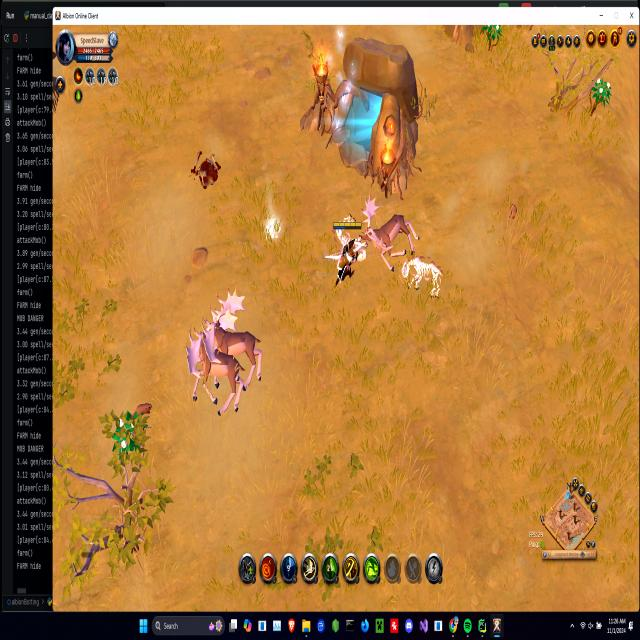hide: (110, 409, 144, 455), (592, 76, 610, 108), (484, 26, 501, 46)
mob: (193, 289, 262, 422), (361, 200, 422, 272)
red: (330, 218, 362, 289)
stone: (265, 215, 281, 241)
